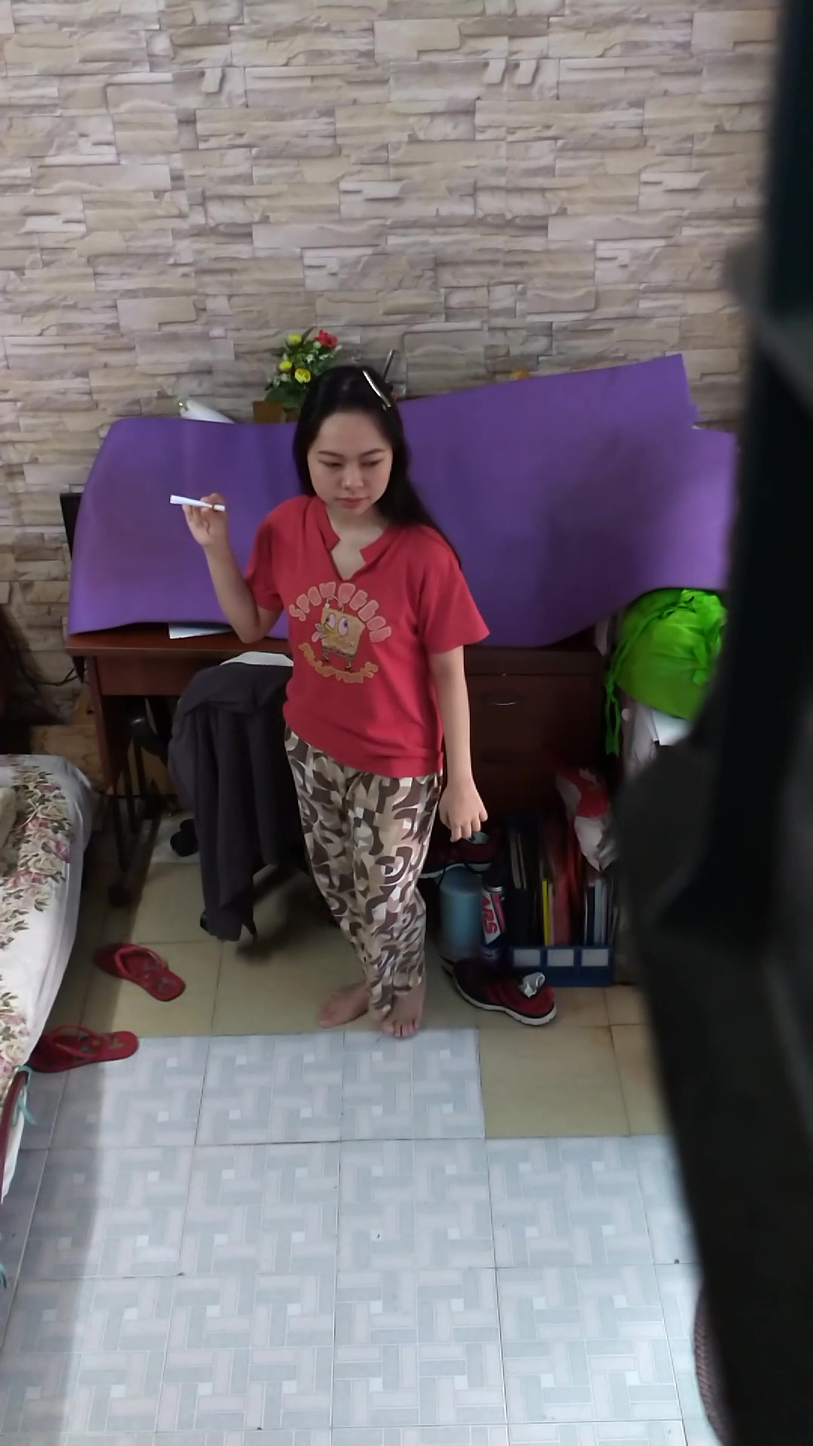cigarette: (166, 492, 228, 514)
person: (168, 358, 501, 1059)
